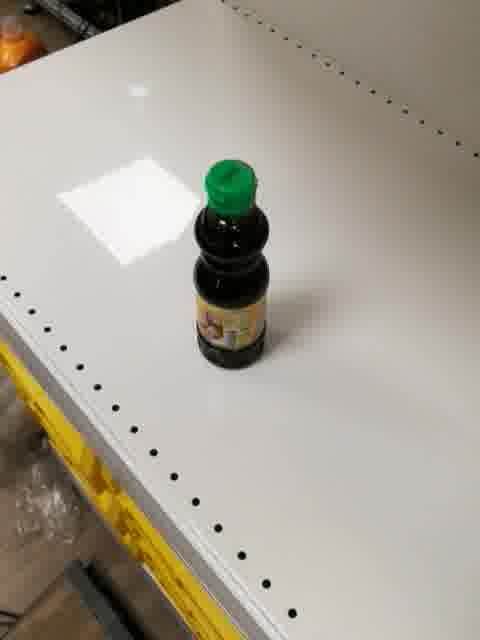cookingoil: (191, 158, 272, 372)
